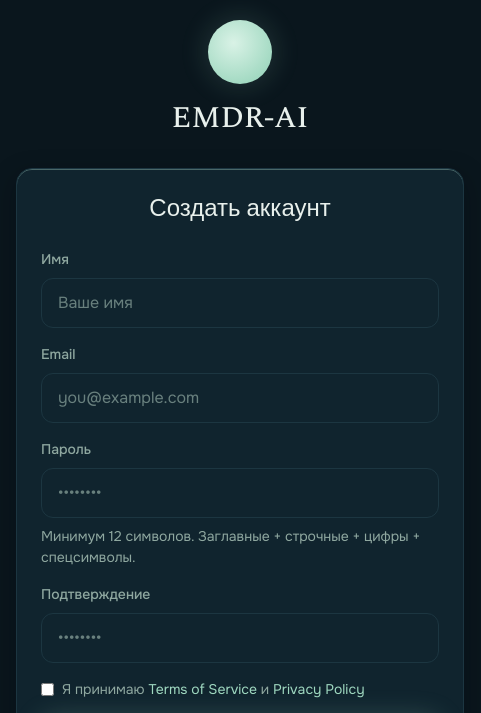
RegisterPage (#150) › password strength indicator › "Хороший" при отсутствии одного из классов (без спецсимвола)
In the password field labelled "Пароль": [240, 493] box left=41, top=468, right=439, bottom=518, type "Password2026"
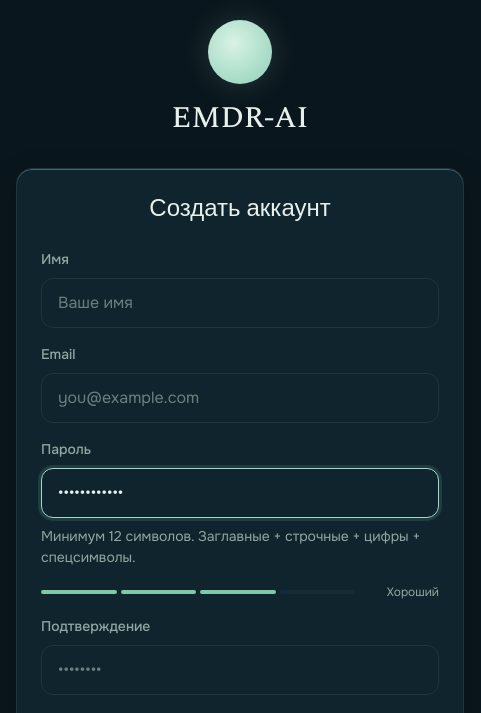
Expected: the text "Хороший" is shown, left=387, top=584, right=439, bottom=600
